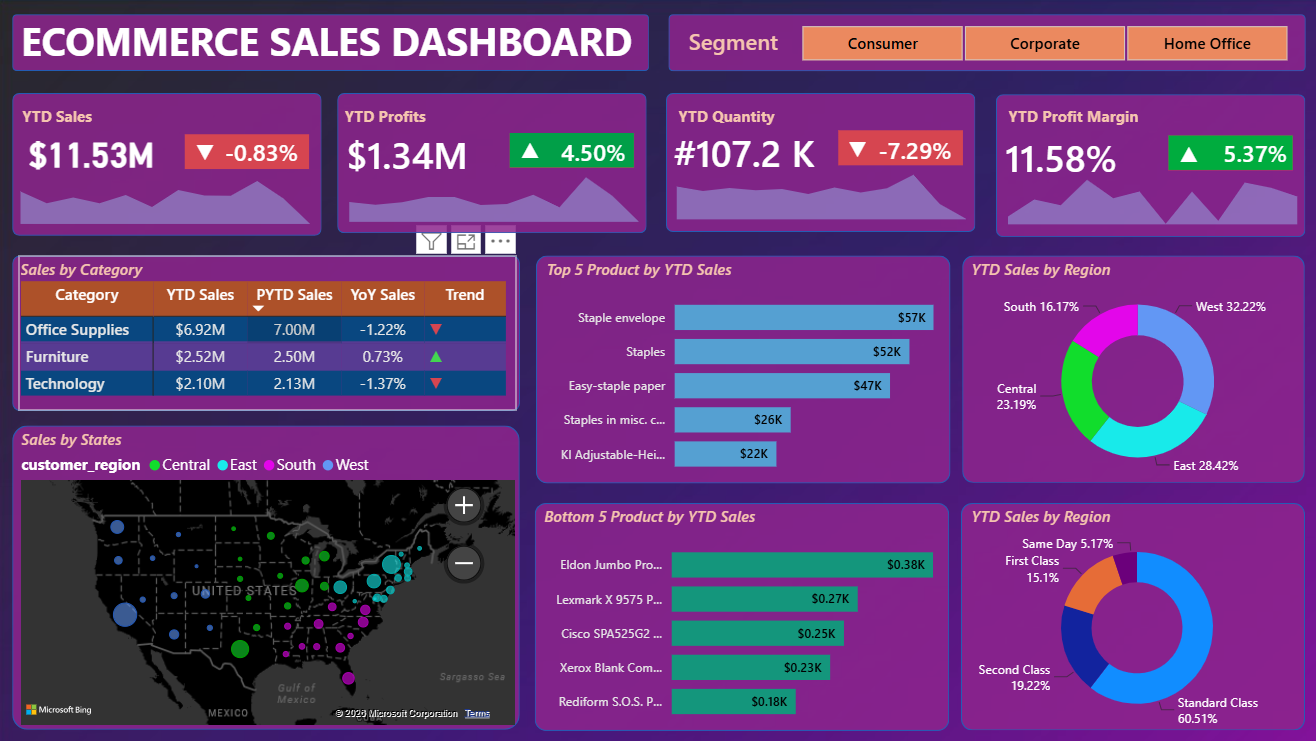

The page's visual inventory and layout, read from the dashboard file:
{"tool":"powerbi","page":{"name":"Page 1","canvas":[1280,720],"ordinal":0},"visuals":[{"type":"shape","box":[15.1,15.1,614.8,54.9],"z":0},{"type":"textbox","box":[24.7,15.1,614.8,54.9],"z":1000},{"type":"shape","box":[15.1,248.4,490,150],"z":2000},{"type":"shape","box":[15.2,91.9,298.7,137.9],"z":3000},{"type":"pivotTable","title":"Sales by Category","fields":{"Rows":["ecommerce_data.category_name"],"Values":["ecommerce_data.YTD Sales","ecommerce_data.PYTD Sales","ecommerce_data.YoY Sales","ecommerce_data.Sales icon"]},"box":[22,248.4,480.3,149.6],"z":4000},{"type":"cardVisual","fields":{"Data":["ecommerce_data.YTD Sales"]},"box":[15.2,131.8,166.7,39.7],"z":5000},{"type":"areaChart","fields":{"Category":["Calender.Month"],"Y":["Sum(ecommerce_data.sales_per_order)"]},"box":[0,165.1,325.7,54.8],"z":6000},{"type":"shape","box":[15.1,413,489.9,293.7],"z":7000},{"type":"map","title":"Sales by States","fields":{"Series":["ecommerce_data.customer_region"],"Size":["ecommerce_data.YTD Sales"],"X":["us_state_long_lat_codes.longitude"],"Y":["us_state_long_lat_codes.latitude"]},"box":[8.2,413,509,305],"z":8000},{"type":"shape","box":[182.3,131.8,119.8,33.2],"z":9000},{"type":"shape","box":[521.4,248.4,400,220],"z":10000},{"type":"cardVisual","fields":{"Data":["ecommerce_data.YoY Sales"]},"box":[202.5,136.8,126.6,34.9],"z":11000},{"type":"shape","box":[520.1,487.1,400,220],"z":12000},{"type":"cardVisual","fields":{"Data":["ecommerce_data.Sales icon"]},"box":[163.7,135.1,75.9,39.9],"z":13000},{"type":"barChart","title":"Top 5 Product by YTD Sales","fields":{"Category":["ecommerce_data.product_name"],"Y":["ecommerce_data.YTD Sales"]},"box":[529.7,248.4,377.4,219.6],"z":14000},{"type":"textbox","box":[25.3,103.6,86.1,28.3],"z":15000},{"type":"shape","box":[329.3,92.2,298.7,135.5],"z":16000},{"type":"barChart","title":"Bottom 5 Product by YTD Sales","fields":{"Category":["ecommerce_data.product_name"],"Y":["ecommerce_data.YTD Sales"]},"box":[521.4,487.1,385.6,219.6],"z":17000},{"type":"shape","box":[933.1,248.4,330.7,219.6],"z":18000},{"type":"cardVisual","fields":{"Data":["ecommerce_data.YTD Profit"]},"box":[317.3,126.8,197.5,46.5],"z":19000},{"type":"shape","box":[496.2,129.8,119.8,33.2],"z":20000},{"type":"shape","box":[931.7,487.1,332.1,219.6],"z":21000},{"type":"cardVisual","fields":{"Data":["ecommerce_data.YoY Profit"]},"box":[526.6,134.6,111.4,38.2],"z":22000},{"type":"cardVisual","fields":{"Data":["ecommerce_data.Profit icon"]},"box":[477.6,133.2,75.9,39.9],"z":23000},{"type":"donutChart","title":"YTD Sales by Region","fields":{"Category":["ecommerce_data.customer_region"],"Y":["ecommerce_data.YTD Sales"]},"box":[933.1,248.4,332.1,220.9],"z":24000},{"type":"donutChart","title":"YTD Sales by Region","fields":{"Category":["ecommerce_data.shipping_type"],"Y":["ecommerce_data.YTD Sales"]},"box":[933.1,487.1,330.7,219.6],"z":25000},{"type":"textbox","box":[336.3,103.2,109.7,26.6],"z":26000},{"type":"shape","box":[649.1,15.1,615,55],"z":27000},{"type":"areaChart","fields":{"Category":["Calender.Month"],"Y":["Sum(ecommerce_data.profit_per_order)"]},"box":[317.3,161.7,325.7,56.5],"z":28000},{"type":"shape","box":[646.1,92.2,298.7,134.1],"z":29000},{"type":"slicer","fields":{"Values":["ecommerce_data.customer_segment"]},"box":[757.5,16.5,507.7,53.5],"z":30000},{"type":"cardVisual","fields":{"Data":["ecommerce_data.YTD Concatenated Qty"]},"box":[633.9,124.8,197.5,46.5],"z":31000},{"type":"shape","box":[812.8,127.8,119.8,33.2],"z":32000},{"type":"cardVisual","fields":{"Data":["ecommerce_data.YoY Qty"]},"box":[833.7,133.3,111.4,38.2],"z":33000},{"type":"cardVisual","fields":{"Data":["ecommerce_data.Qty icon"]},"box":[794.2,131.2,75.9,39.9],"z":34000},{"type":"textbox","box":[658.6,103.2,109.7,26.6],"z":35000},{"type":"areaChart","fields":{"Category":["Calender.Month"],"Y":["Sum(ecommerce_data.order_quantity)"]},"box":[633.9,159.7,325.7,56.5],"z":36000},{"type":"shape","box":[965,92.6,298.7,137.9],"z":37000},{"type":"cardVisual","fields":{"Data":["ecommerce_data.YTD Profit margin"]},"box":[953.2,129.5,197.5,46.5],"z":38000},{"type":"shape","box":[1132.1,132.5,119.8,33.2],"z":39000},{"type":"cardVisual","fields":{"Data":["ecommerce_data.YoY Profit Margin"]},"box":[1167.2,136,111.4,38.2],"z":40000},{"type":"cardVisual","fields":{"Data":["ecommerce_data.Profit Margin icon"]},"box":[1113.5,135.8,75.9,39.9],"z":41000},{"type":"textbox","box":[976.8,103.2,173.7,27.4],"z":42000},{"type":"areaChart","fields":{"Category":["Calender.Month"],"Y":["ecommerce_data.Profit Margin"]},"box":[953.2,164.4,325.7,56.5],"z":43000},{"type":"textbox","box":[649.1,26.1,119.4,35.7],"z":44000}]}

Visuals, with their boxes in screenshot pixels (x1, y1, x2, y2), scaled from the page's 1280x720 canvas onto the 1316x741 screenshot:
shape: [x1=16, y1=16, x2=648, y2=72]
textbox: [x1=25, y1=16, x2=657, y2=72]
shape: [x1=16, y1=256, x2=519, y2=410]
shape: [x1=16, y1=95, x2=323, y2=237]
"Sales by Category" pivotTable: [x1=23, y1=256, x2=516, y2=410]
cardVisual - ecommerce_data.YTD Sales: [x1=16, y1=136, x2=187, y2=177]
areaChart - Calender.Month x Sum(ecommerce_data.sales_per_order): [x1=0, y1=170, x2=335, y2=226]
shape: [x1=16, y1=425, x2=519, y2=727]
"Sales by States" map: [x1=8, y1=425, x2=532, y2=739]
shape: [x1=187, y1=136, x2=311, y2=170]
shape: [x1=536, y1=256, x2=947, y2=482]
cardVisual - ecommerce_data.YoY Sales: [x1=208, y1=141, x2=338, y2=177]
shape: [x1=535, y1=501, x2=946, y2=728]
cardVisual - ecommerce_data.Sales icon: [x1=168, y1=139, x2=246, y2=180]
"Top 5 Product by YTD Sales" barChart: [x1=545, y1=256, x2=933, y2=482]
textbox: [x1=26, y1=107, x2=115, y2=136]
shape: [x1=339, y1=95, x2=646, y2=234]
"Bottom 5 Product by YTD Sales" barChart: [x1=536, y1=501, x2=933, y2=727]
shape: [x1=959, y1=256, x2=1299, y2=482]
cardVisual - ecommerce_data.YTD Profit: [x1=326, y1=130, x2=529, y2=178]
shape: [x1=510, y1=134, x2=633, y2=168]
shape: [x1=958, y1=501, x2=1299, y2=727]
cardVisual - ecommerce_data.YoY Profit: [x1=541, y1=139, x2=656, y2=178]
cardVisual - ecommerce_data.Profit icon: [x1=491, y1=137, x2=569, y2=178]
"YTD Sales by Region" donutChart: [x1=959, y1=256, x2=1301, y2=483]
"YTD Sales by Region" donutChart: [x1=959, y1=501, x2=1299, y2=727]
textbox: [x1=346, y1=106, x2=459, y2=134]
shape: [x1=667, y1=16, x2=1300, y2=72]
areaChart - Calender.Month x Sum(ecommerce_data.profit_per_order): [x1=326, y1=166, x2=661, y2=225]
shape: [x1=664, y1=95, x2=971, y2=233]
slicer - ecommerce_data.customer_segment: [x1=779, y1=17, x2=1301, y2=72]
cardVisual - ecommerce_data.YTD Concatenated Qty: [x1=652, y1=128, x2=855, y2=176]
shape: [x1=836, y1=132, x2=959, y2=166]
cardVisual - ecommerce_data.YoY Qty: [x1=857, y1=137, x2=972, y2=177]
cardVisual - ecommerce_data.Qty icon: [x1=817, y1=135, x2=895, y2=176]
textbox: [x1=677, y1=106, x2=790, y2=134]
areaChart - Calender.Month x Sum(ecommerce_data.order_quantity): [x1=652, y1=164, x2=987, y2=223]
shape: [x1=992, y1=95, x2=1299, y2=237]
cardVisual - ecommerce_data.YTD Profit margin: [x1=980, y1=133, x2=1183, y2=181]
shape: [x1=1164, y1=136, x2=1287, y2=171]
cardVisual - ecommerce_data.YoY Profit Margin: [x1=1200, y1=140, x2=1315, y2=179]
cardVisual - ecommerce_data.Profit Margin icon: [x1=1145, y1=140, x2=1223, y2=181]
textbox: [x1=1004, y1=106, x2=1183, y2=134]
areaChart - Calender.Month x ecommerce_data.Profit Margin: [x1=980, y1=169, x2=1315, y2=227]
textbox: [x1=667, y1=27, x2=790, y2=64]
